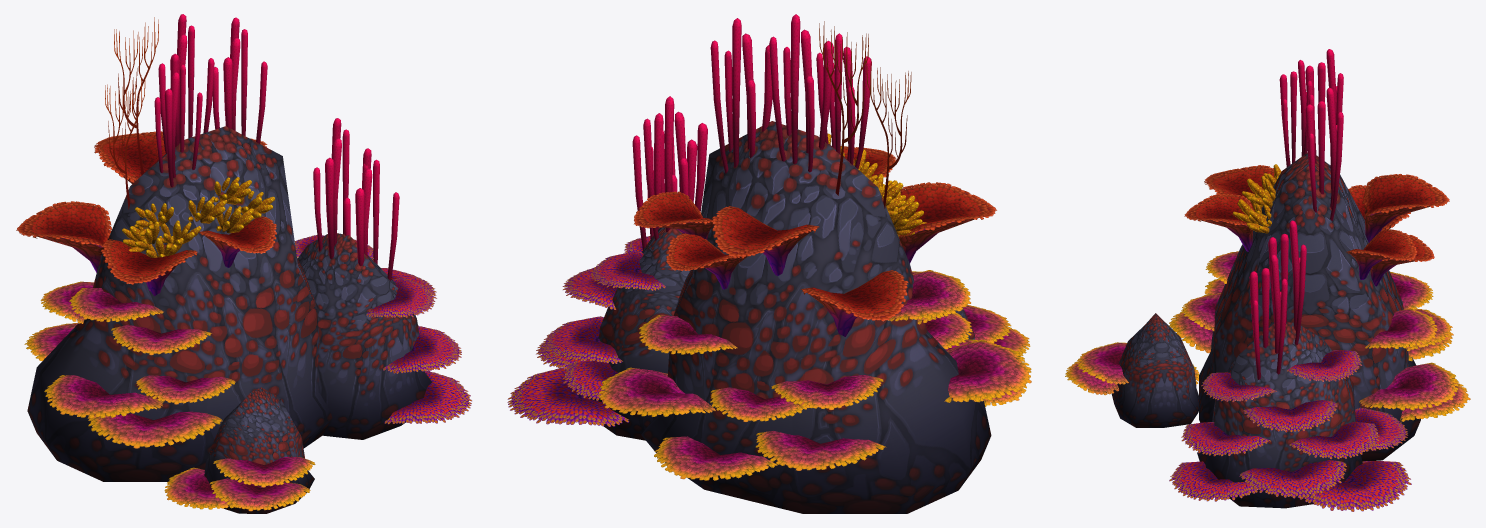
The model's file is CoralSet_11.FBX.
3 renders of one model, left to right at view 1: azimuth 30°, elevation 25°; view 2: azimuth 150°, elevation 25°; view 3: azimuth 270°, elevation 25°, orthographic. The views are drawn at different scales.
Parts seen in each view (by area): view 1: Box002, Box019, CoralSet_11, Box018, Plane181, Plane182, Line169, Line171, Line170, Line167, Plane260, Line168 (+19 smaller); view 2: Box002, CoralSet_11, Box019, Line168, Line169, Plane182, Plane258, Plane251, Plane252, Line170, Plane253, Line167 (+15 smaller); view 3: Box002, Box019, CoralSet_11, Box018, Plane258, Plane251, Line169, Plane259, Line171, Plane260, Plane262, Plane264 (+18 smaller).
Part boxes in pixels (x1,y1,x2,y2): Box002: (27, 126, 332, 481); Box019: (298, 233, 432, 439); CoralSet_11: (16, 131, 276, 296); Box018: (204, 387, 314, 513); Plane181: (87, 411, 222, 448); Plane182: (44, 375, 163, 418); Line169: (212, 17, 267, 143); Line171: (343, 148, 399, 280); Line170: (313, 118, 368, 258); Line167: (154, 54, 202, 187); Plane260: (384, 370, 471, 424); Line168: (158, 14, 214, 153); Box002: (641, 121, 991, 513); CoralSet_11: (634, 146, 996, 336); Box019: (587, 227, 690, 440); Line168: (769, 14, 833, 172); Line169: (710, 18, 772, 173); Plane182: (944, 340, 1031, 402); Plane258: (507, 367, 629, 426); Plane251: (598, 367, 715, 416); Plane252: (755, 431, 886, 470); Line170: (643, 96, 707, 240); Plane253: (654, 436, 777, 480); Line167: (816, 33, 871, 168); Box002: (1199, 153, 1420, 461); Box019: (1197, 322, 1362, 508); CoralSet_11: (1184, 165, 1449, 286); Box018: (1111, 313, 1198, 427); Plane258: (1295, 461, 1411, 511); Plane251: (1359, 362, 1458, 410); Line169: (1305, 87, 1343, 220); Plane259: (1239, 460, 1346, 498); Line171: (1249, 254, 1287, 379); Plane260: (1169, 461, 1260, 501); Plane262: (1289, 422, 1379, 459); Plane264: (1243, 400, 1337, 432).
Bounding box in the file's own units: 584 × 545 × 540.
